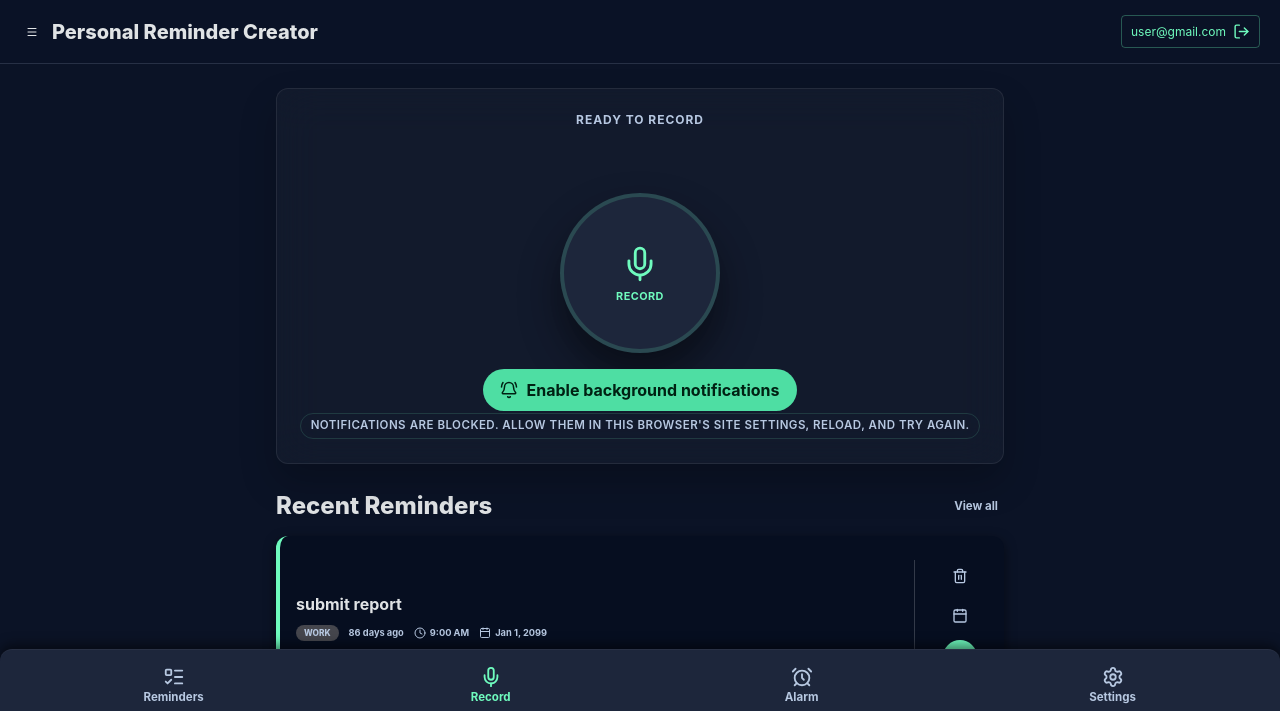
Test: App › opens the reschedule screen from the reminders screen
Click the button "View all": (976, 506) [948,498,1004,514]
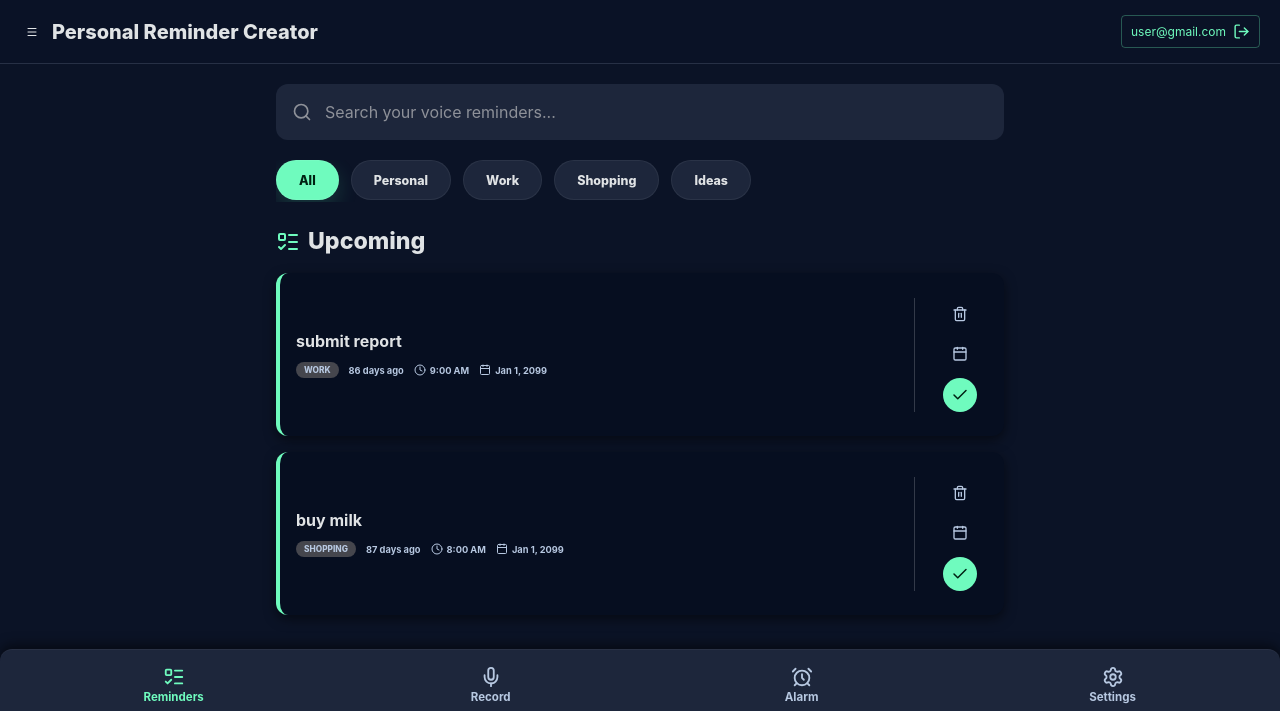
Expected: the text "submit report" is shown, [296,331,402,351]
Click the button named "reschedule submit report": (960, 354) [944,338,976,370]
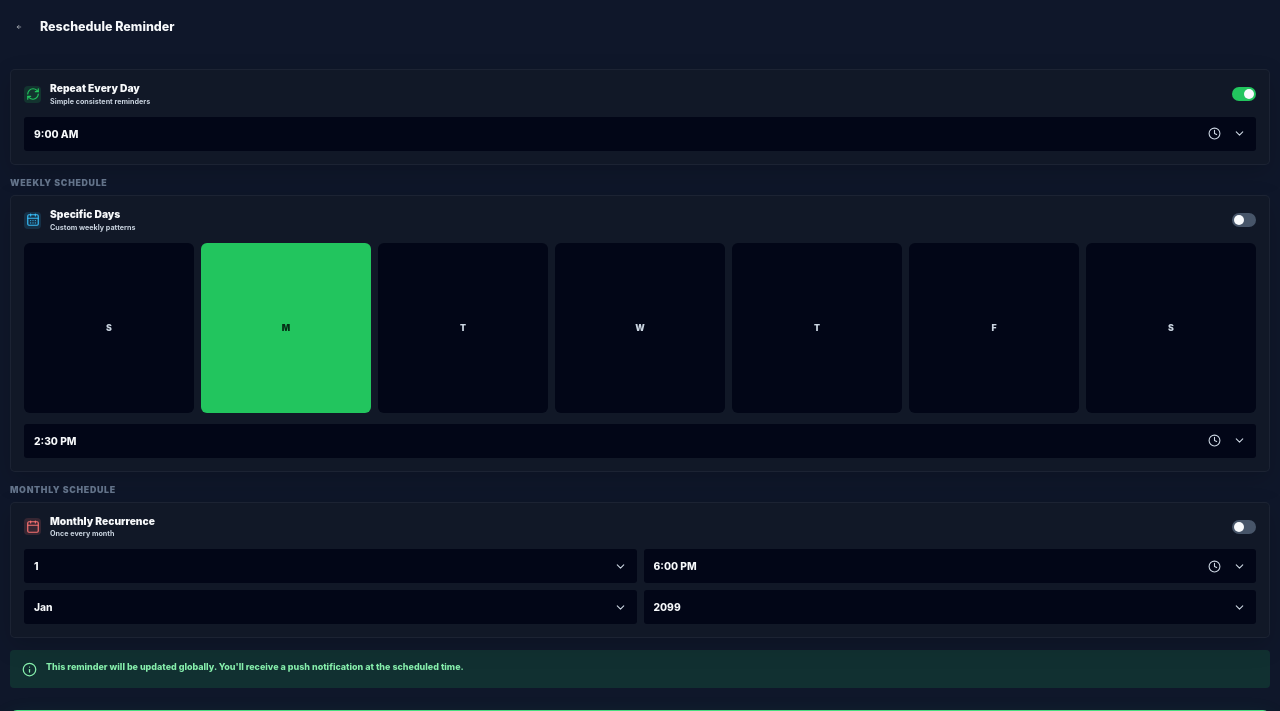
Expected: the heading "Reschedule Reminder" is shown, [40,21,174,33]
Expected: the text "Repeat Every Day" is shown, [50,83,150,95]
Expected: the dropdown named "daily time" shows "9:00 AM", [24,117,1256,151]
Click the button named "back": (19, 27) [10,18,28,36]
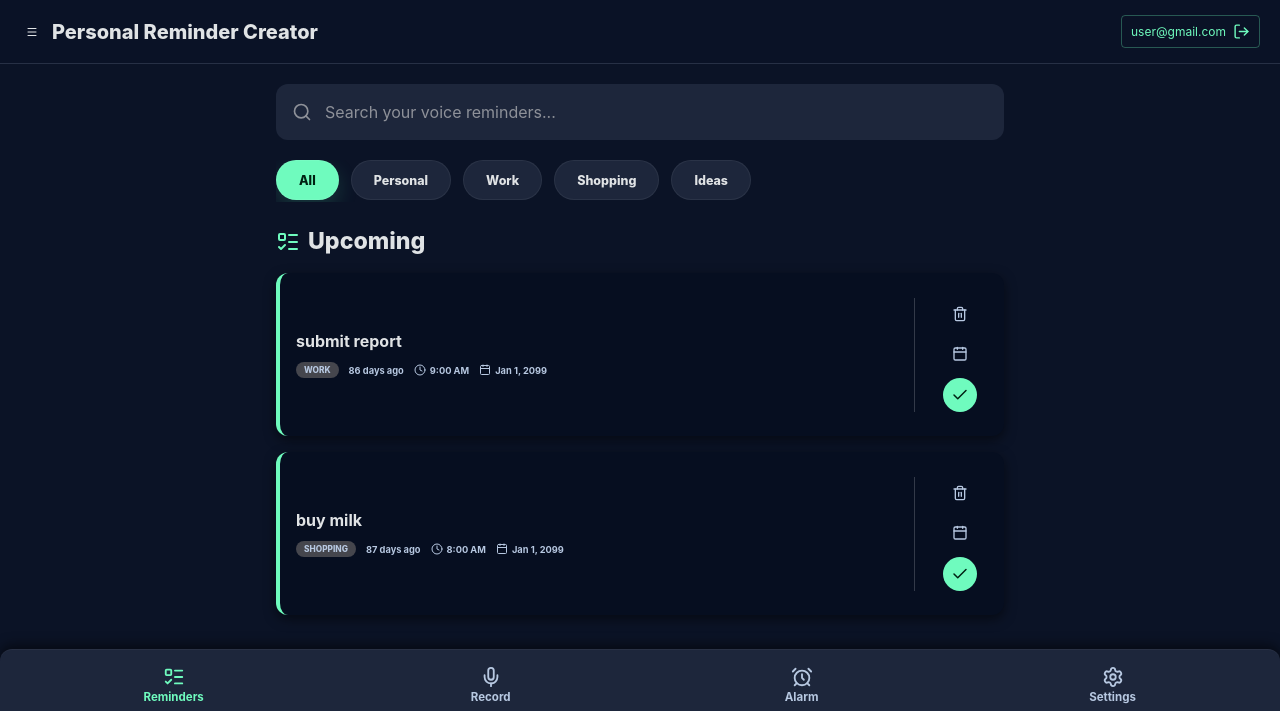
Expected: the heading "Upcoming" is shown, [276,227,425,255]
Expected: the text "submit report" is shown, [296,331,402,351]
